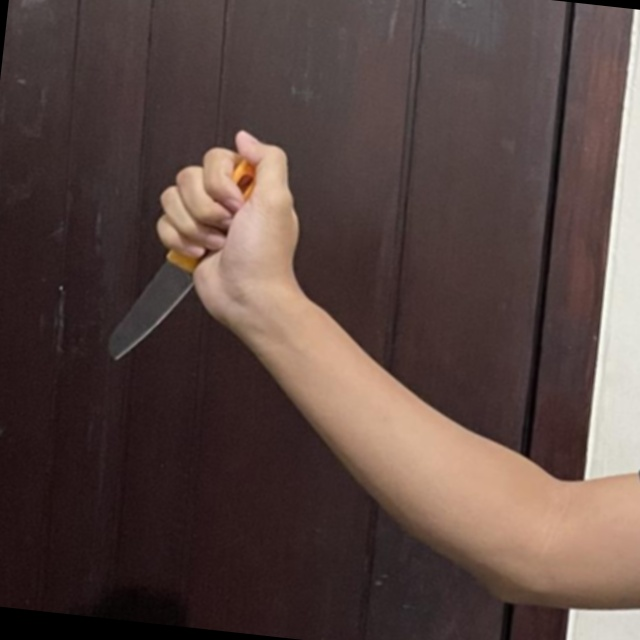Sharp-Object: (101, 133, 279, 378)
